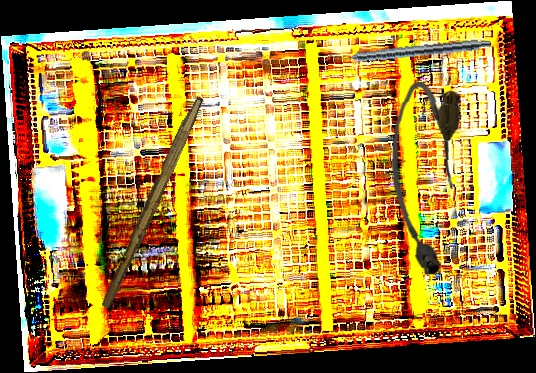Cannula: (384, 80, 462, 277)
Handpiece: (327, 34, 492, 67)
Scalpel Handle: (99, 93, 205, 311)
